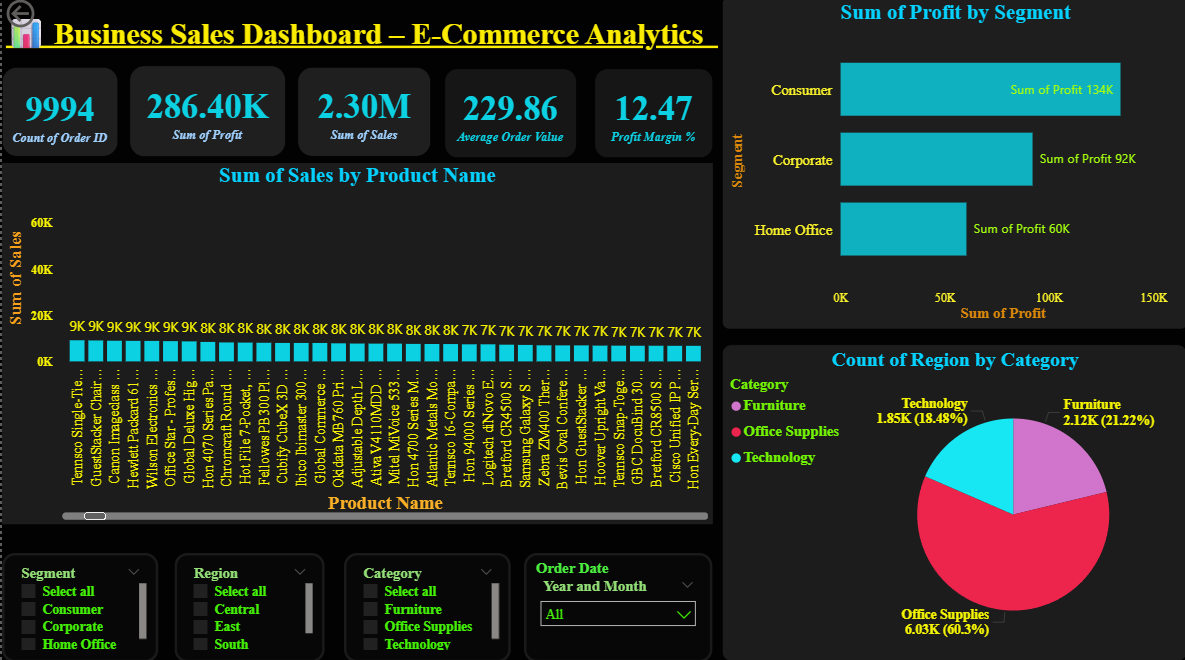

What the dashboard file says about the page in this screenshot:
{"tool":"powerbi","page":{"name":"Page 1","canvas":[1280,720],"ordinal":0},"visuals":[{"type":"textbox","box":[0,0,777.2,82.5],"z":0},{"type":"slicer","title":"Order Date","fields":{"Values":["Sample - Superstore.Order Date.Variation.Date Hierarchy.Year","Sample - Superstore.Order Date.Variation.Date Hierarchy.Quarter","Sample - Superstore.Order Date.Variation.Date Hierarchy.Month","Sample - Superstore.Order Date.Variation.Date Hierarchy.Day"]},"box":[563.9,601.6,203.3,118],"z":1000},{"type":"slicer","fields":{"Values":["Sample - Superstore.Segment"]},"box":[0,601.6,168.9,118],"z":2000},{"type":"slicer","fields":{"Values":["Sample - Superstore.Category"]},"box":[368.9,601.6,180.3,118],"z":3000},{"type":"slicer","fields":{"Values":["Sample - Superstore.Region"]},"box":[186.9,601.6,162.3,118],"z":4000},{"type":"columnChart","fields":{"Category":["Sample - Superstore.Product Name"],"Y":["Sum(Sample - Superstore.Sales)"]},"box":[0,182,767.2,390.2],"z":5000},{"type":"actionButton","box":[0,0,100,40],"z":6000},{"type":"card","title":"Sum of Sales","fields":{"Values":["Sum(Sample - Superstore.Sales)"]},"box":[319.7,76.4,144.3,96.7],"z":6000,"group":"g1"},{"type":"card","title":"Sum of Profit","fields":{"Values":["Sum(Sample - Superstore.Profit)"]},"box":[137.7,75.4,168.9,98.4],"z":7000,"group":"g1"},{"type":"clusteredBarChart","fields":{"Y":["Sum(Sample - Superstore.Profit)"],"Category":["Sample - Superstore.Segment"]},"box":[777.2,1.8,503.5,359.6],"z":7000},{"type":"card","title":"Count of Orders ID","fields":{"Values":["CountNonNull(Sample - Superstore.Order ID)"]},"box":[0,77.3,125,96.7],"z":8000,"group":"g1"},{"type":"pieChart","fields":{"Y":["CountNonNull(Sample - Superstore.Region)"],"Category":["Sample - Superstore.Category"]},"box":[777.2,377.2,501.8,342.1],"z":8000},{"type":"group","id":"g1","title":"Group 1","box":[0,75.4,767.2,99.3],"z":9000},{"type":"card","fields":{"Values":["Sample - Superstore.Profit Margin %"]},"box":[639.3,78,127.9,96.7],"z":10000,"group":"g1"},{"type":"card","fields":{"Values":["Sample - Superstore.Average Order Value"]},"box":[477,78,142.6,96.7],"z":11000,"group":"g1"}]}

Visuals, with their boxes in screenshot pixels (x1, y1, x2, y2), scaled from the page's 1280x720 canvas onto the 1185x660 screenshot:
textbox: pyautogui.locateOnScreen(0, 0, 720, 76)
"Order Date" slicer: pyautogui.locateOnScreen(522, 551, 710, 659)
slicer - Sample - Superstore.Segment: pyautogui.locateOnScreen(0, 551, 156, 659)
slicer - Sample - Superstore.Category: pyautogui.locateOnScreen(342, 551, 508, 659)
slicer - Sample - Superstore.Region: pyautogui.locateOnScreen(173, 551, 323, 659)
columnChart - Sample - Superstore.Product Name x Sum(Sample - Superstore.Sales): pyautogui.locateOnScreen(0, 167, 710, 525)
actionButton: pyautogui.locateOnScreen(0, 0, 93, 37)
"Sum of Sales" card: pyautogui.locateOnScreen(296, 70, 430, 159)
"Sum of Profit" card: pyautogui.locateOnScreen(127, 69, 284, 159)
clusteredBarChart - Sum(Sample - Superstore.Profit) x Sample - Superstore.Segment: pyautogui.locateOnScreen(720, 2, 1184, 331)
"Count of Orders ID" card: pyautogui.locateOnScreen(0, 71, 116, 160)
pieChart - CountNonNull(Sample - Superstore.Region) x Sample - Superstore.Category: pyautogui.locateOnScreen(720, 346, 1184, 659)
"Group 1" group: pyautogui.locateOnScreen(0, 69, 710, 160)
card - Sample - Superstore.Profit Margin %: pyautogui.locateOnScreen(592, 72, 710, 160)
card - Sample - Superstore.Average Order Value: pyautogui.locateOnScreen(442, 72, 574, 160)
